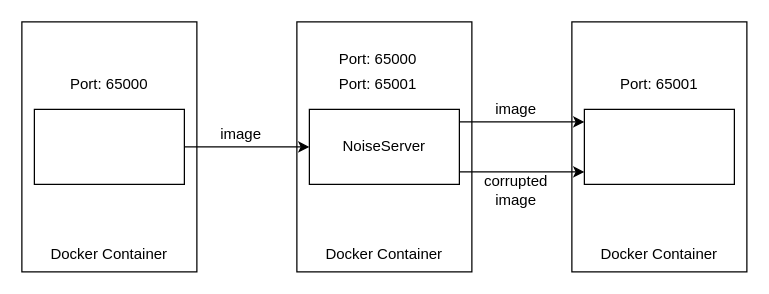
Some shapes in this 769 by 294 pixel diagram are drawn without their labels. Here are the shapes that lost their labels. From the top down, the centre of each, then its label:
point (108, 146): Client
point (658, 146): Server
